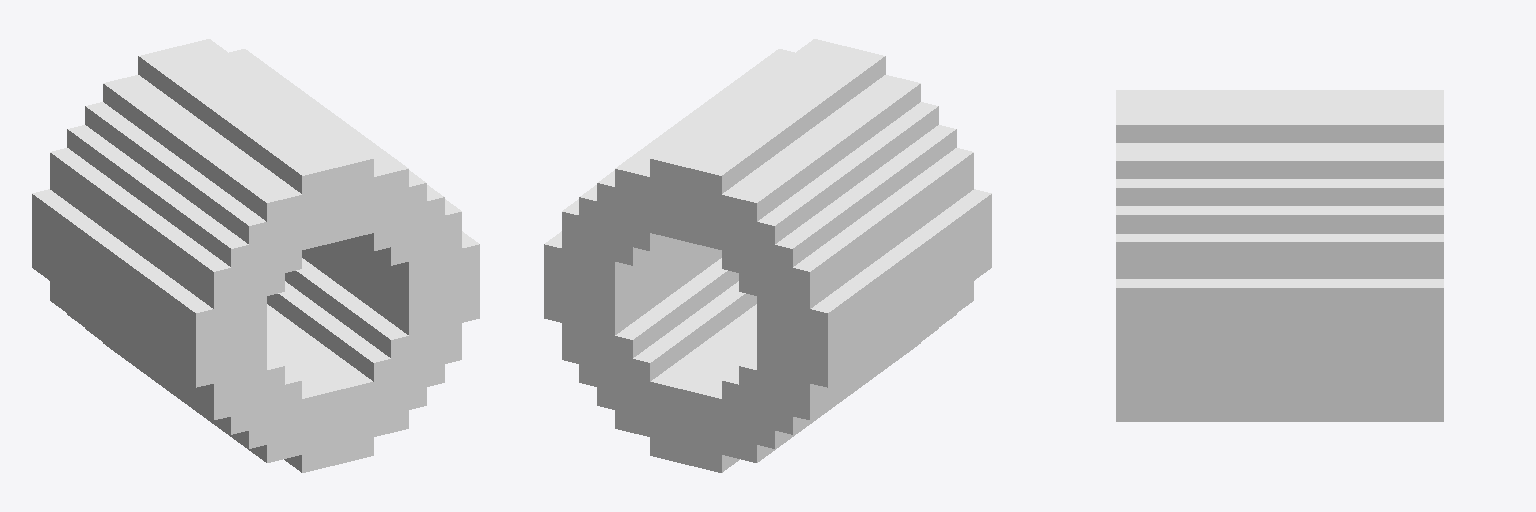
File: Wheel2.obj
3 views of the same model, side by side, from view 1: azimuth 30°, elevation 25°; view 2: azimuth 150°, elevation 25°; view 3: azimuth 270°, elevation 25° (orthographic).
Parts seen in each view (by area): view 1: object 1; view 2: object 1; view 3: object 1.
Boxes of the visible parts, <box> form: object 1: <box>32,39,479,472</box>; object 1: <box>544,39,991,472</box>; object 1: <box>1116,90,1443,421</box>.
Bounding box in the file's own units: 1.6 × 1.6 × 1.6.